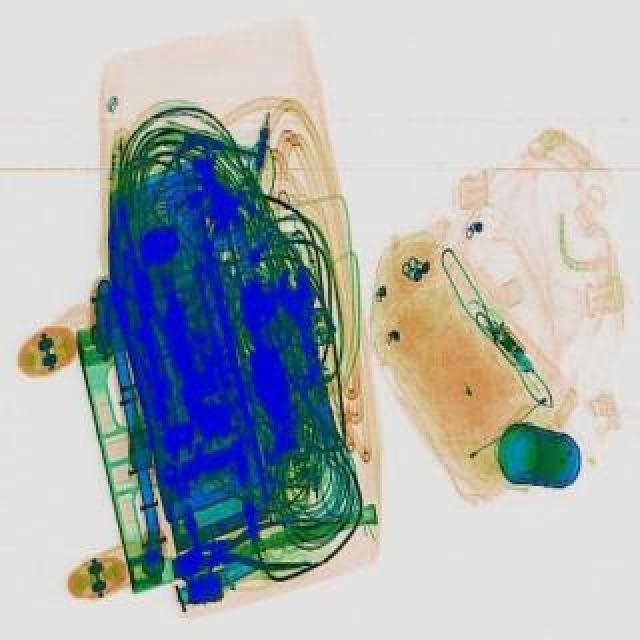scissors: (272, 264, 352, 450)
wrench: (194, 512, 320, 578)
